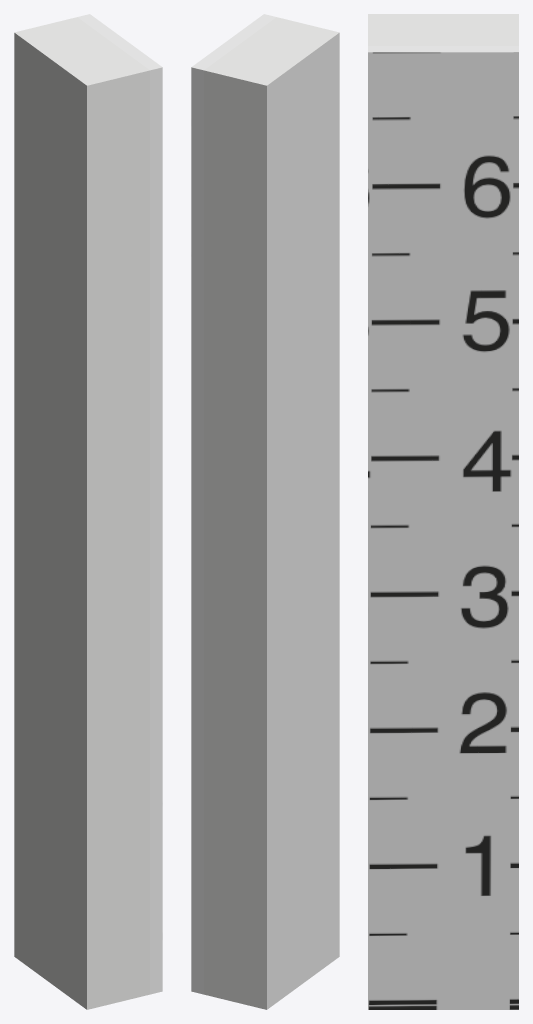
Rendered from water_gauge.gltf.
3 renders of one model, left to right at view 1: azimuth 30°, elevation 25°; view 2: azimuth 150°, elevation 25°; view 3: azimuth 270°, elevation 25°, orthographic. The views are drawn at different scales.
Visible parts, largest first — view 1: Body1.001, Body1; view 2: Body1.001, Body1; view 3: Body1, Body1.001.
Boxes of the visible parts, x1=… form: Body1.001: x1=14, y1=17, x2=149, y2=1009; Body1: x1=77, y1=14, x2=162, y2=994; Body1.001: x1=204, y1=17, x2=339, y2=1009; Body1: x1=191, y1=14, x2=276, y2=994; Body1: x1=368, y1=46, x2=518, y2=1009; Body1.001: x1=368, y1=14, x2=518, y2=45.
Size of the model in its own units: 0.006 by 0.07 by 0.01.
2 materials, 1 textured.
